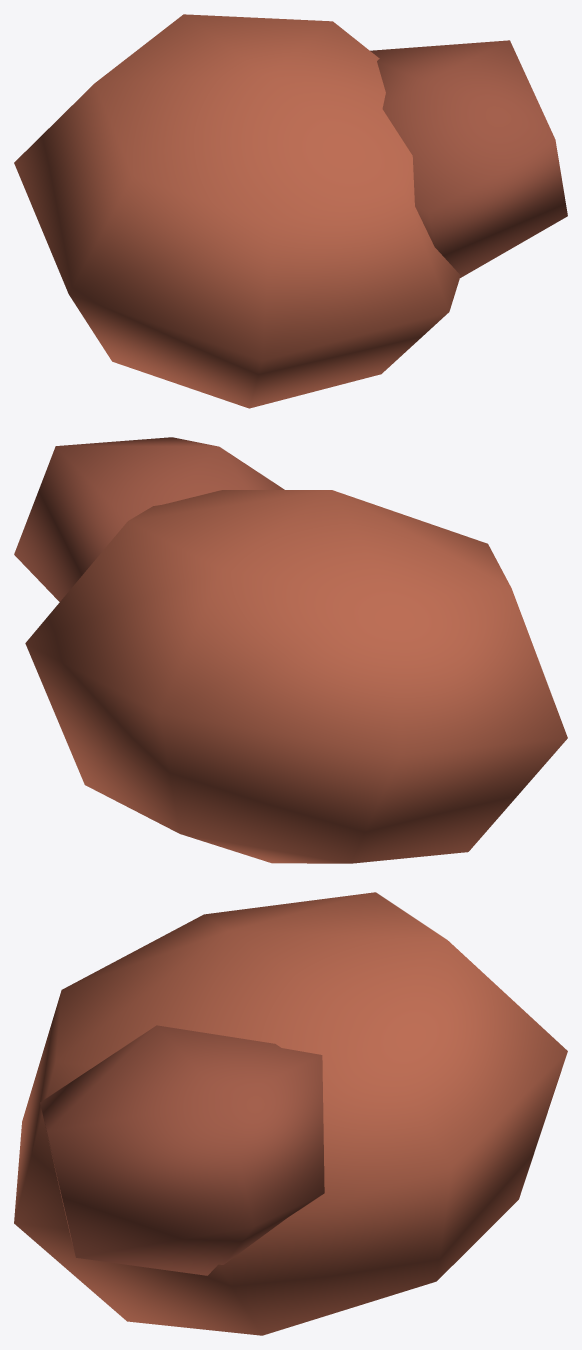
Rendered from passaporte_pedra.glb.
The picture shows the model from 3 angles, top to bottom: view 1: azimuth 30°, elevation 25°; view 2: azimuth 150°, elevation 25°; view 3: azimuth 270°, elevation 25°; orthographic projection. The views are drawn at different scales.
Parts seen in each view (by area): view 1: _MeshInstance3D_670_1, _MeshInstance3D_671_0; view 2: _MeshInstance3D_670_1, _MeshInstance3D_671_0; view 3: _MeshInstance3D_670_1, _MeshInstance3D_671_0.
Part boxes in pixels (x1,y1,x2,y2): _MeshInstance3D_670_1: (14, 14, 460, 408); _MeshInstance3D_671_0: (370, 40, 567, 277); _MeshInstance3D_670_1: (25, 490, 567, 863); _MeshInstance3D_671_0: (14, 437, 284, 601); _MeshInstance3D_670_1: (14, 892, 567, 1335); _MeshInstance3D_671_0: (40, 1025, 324, 1275).
Bounding box in the file's own units: 0.3523 × 0.2131 × 0.2969.
